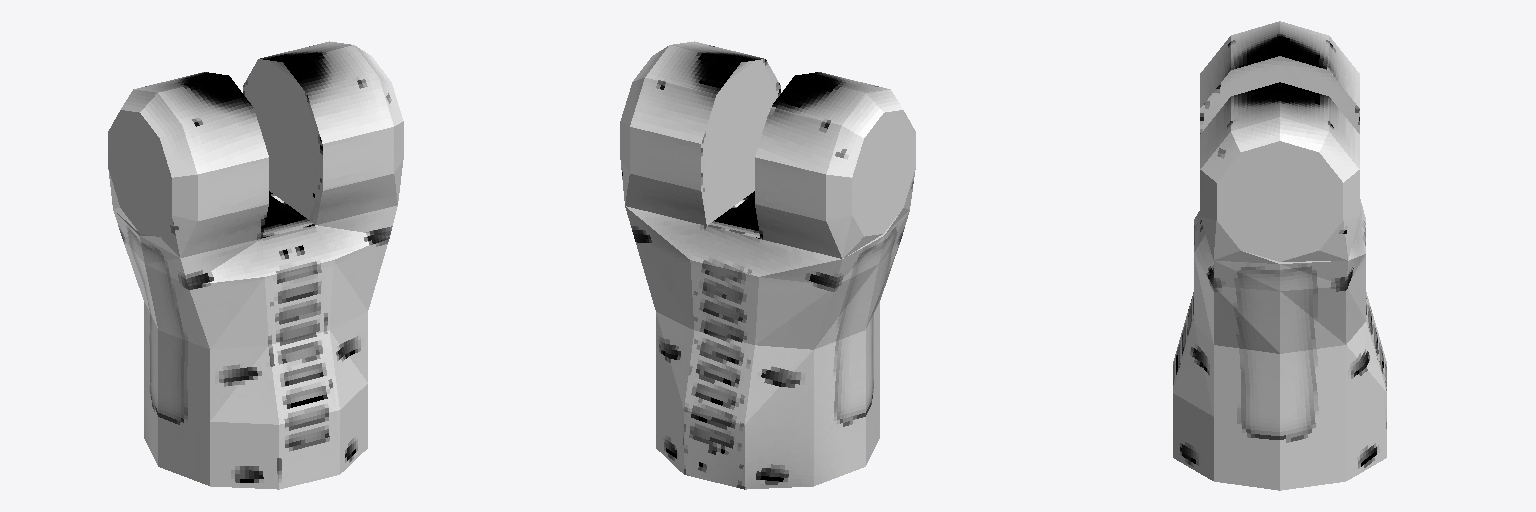
The picture shows the model from 3 angles: view 1: azimuth 30°, elevation 25°; view 2: azimuth 150°, elevation 25°; view 3: azimuth 270°, elevation 25°; orthographic projection.
Parts seen in each view (by area): view 1: l_farm; view 2: l_farm; view 3: l_farm.
Part boxes in pixels (x1,y1,x2,y2): l_farm: (108,41,403,489); l_farm: (620,41,915,489); l_farm: (1173,21,1386,490).
Size of the model in its own units: 0.1246 by 0.1915 by 0.0995.
Materials: 1 (1 with a texture image).